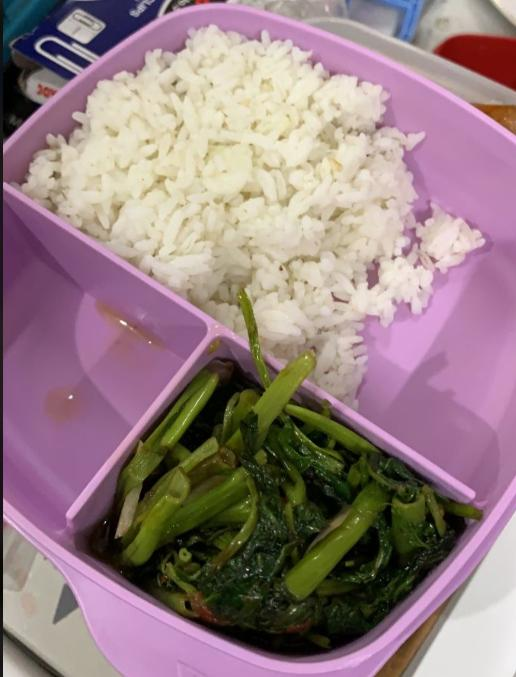buah_sayur_lainnya: (193, 437, 354, 611)
makanan_berpati: (142, 65, 326, 242)
